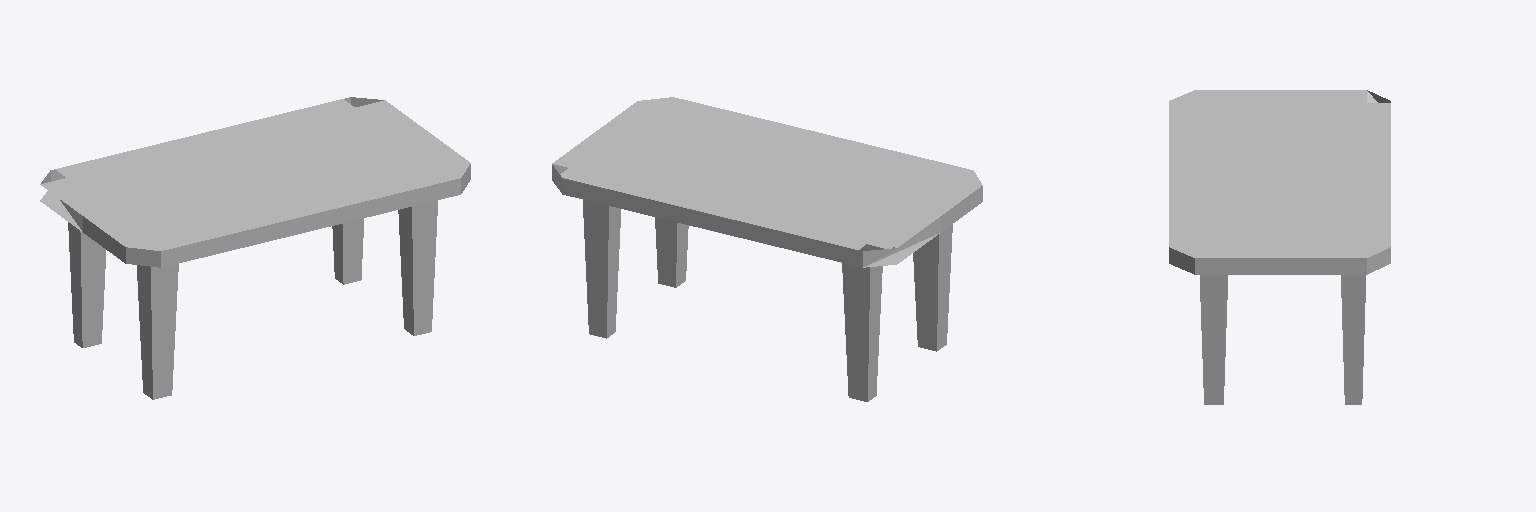
The model's file is Eet_tafel_Fixed.obj.
3 views of the same model, side by side, from view 1: azimuth 30°, elevation 25°; view 2: azimuth 150°, elevation 25°; view 3: azimuth 270°, elevation 25° (orthographic).
Parts seen in each view (by area): view 1: eet_tafel; view 2: eet_tafel; view 3: eet_tafel.
Part boxes in pixels (x1,y1,x2,y2): eet_tafel: (40,97,470,399); eet_tafel: (552,97,982,401); eet_tafel: (1169,90,1390,404).
Size of the model in its own units: 36.6 by 16.58 by 20.32.